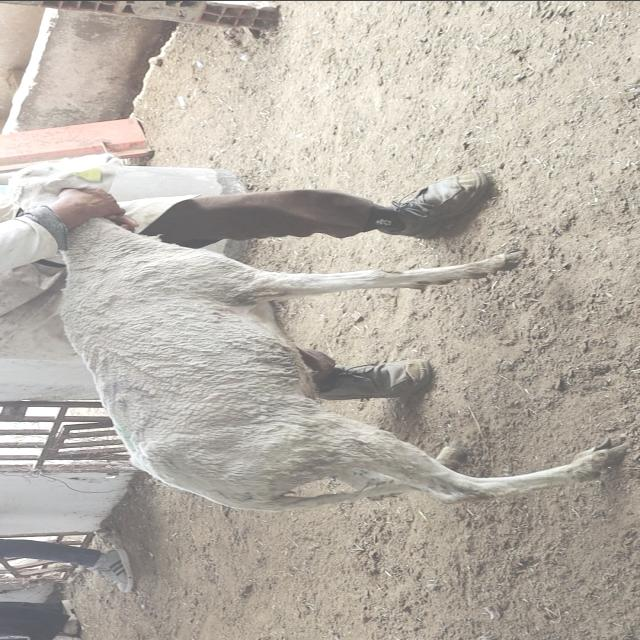Score_1: (62, 219, 628, 511)
